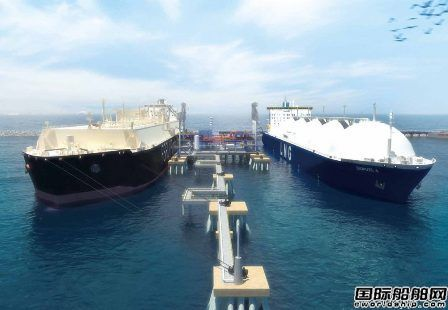Cargoship: (20, 92, 187, 210), (259, 98, 442, 205)
